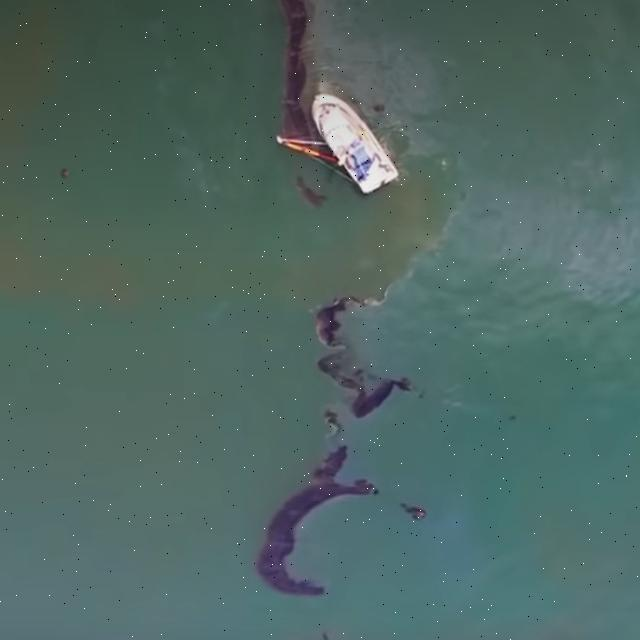truecolor: (256, 446, 378, 597), (276, 0, 352, 181), (315, 290, 412, 419), (295, 176, 326, 206), (322, 410, 341, 438), (400, 504, 427, 521)
